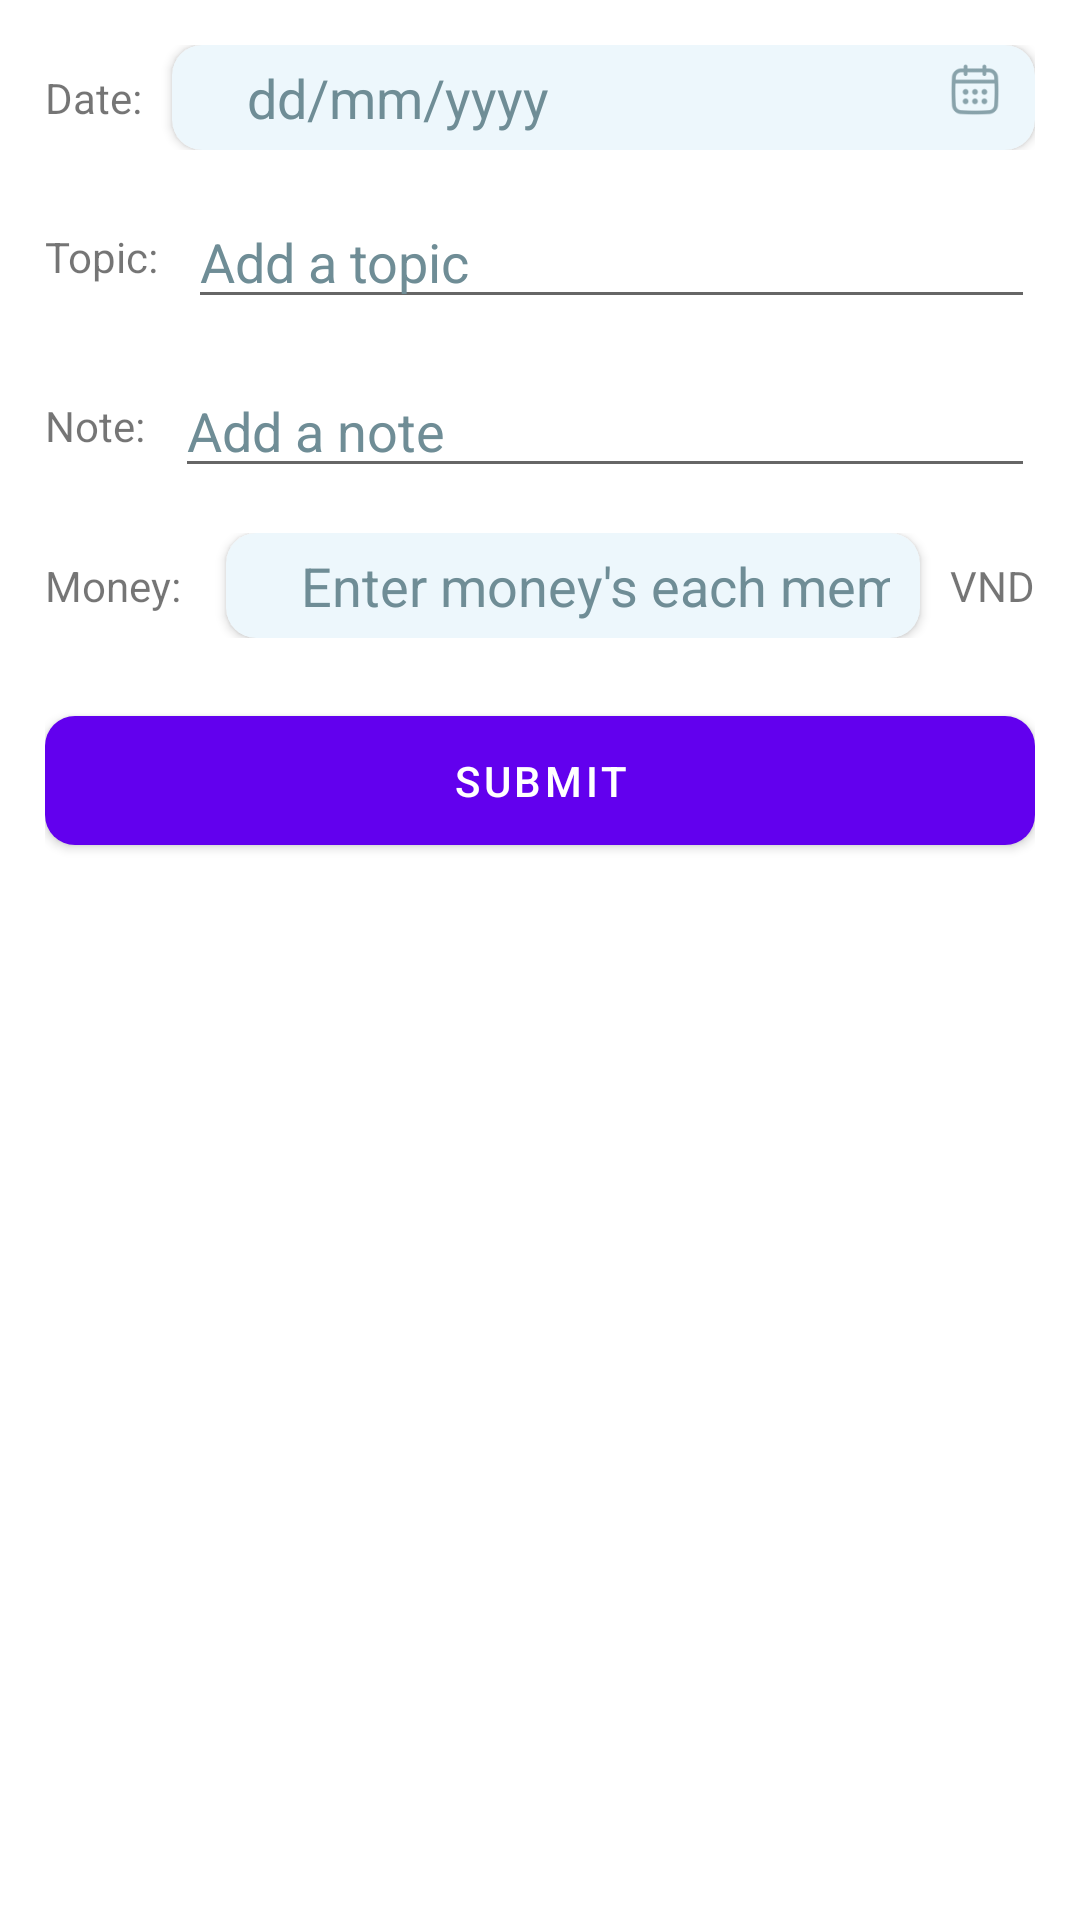

Point at icon controls on the screen. Image size 1080px×1920px, points as point (x, y).
calendar: point (975, 89)
